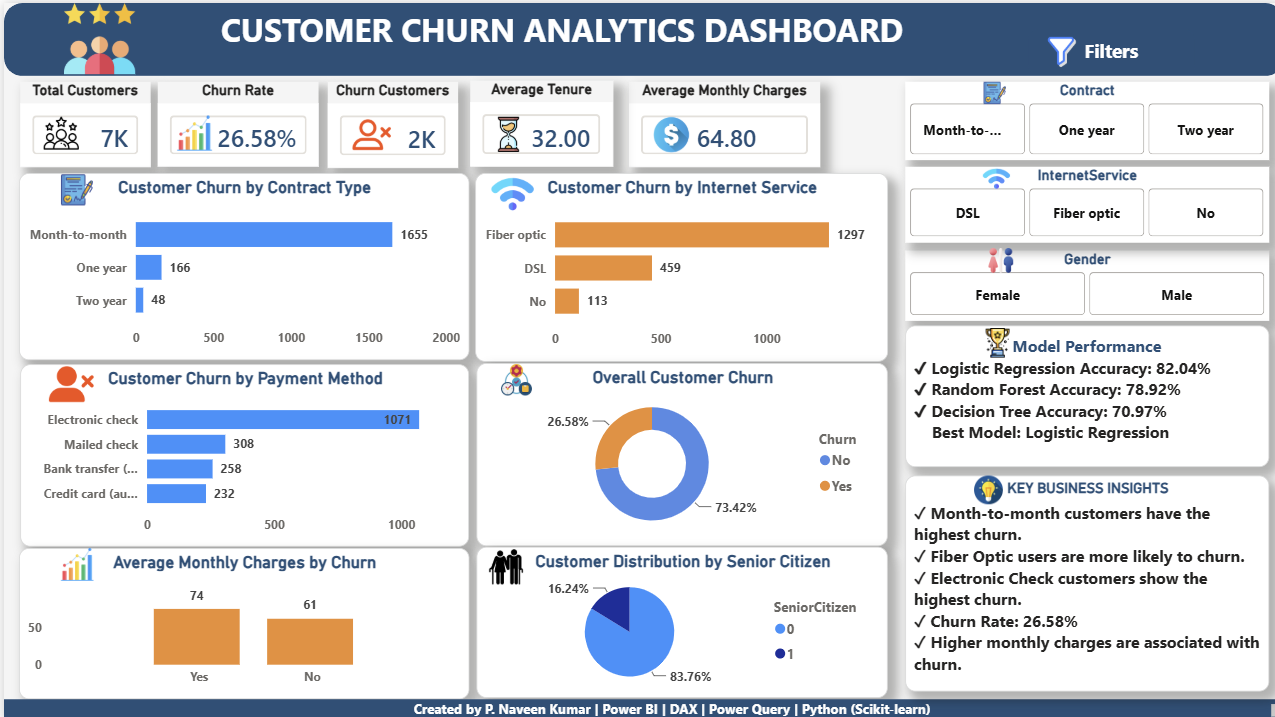

This screenshot's page, from the dashboard's own definition file:
{"tool":"powerbi","page":{"name":"Page 1","canvas":[1280,720],"ordinal":0},"visuals":[{"type":"shape","box":[0,0,1280,73.2],"z":0},{"type":"textbox","box":[0,0,1280,73.2],"z":1000},{"type":"cardVisual","title":"Average Monthly Charges","fields":{"Data":["DAX MEASURES.Average Monthly Charges"]},"box":[624.4,78.8,191,85.6],"z":2000},{"type":"cardVisual","title":"Total Customers","fields":{"Data":["DAX MEASURES.Total Customers"]},"box":[16.2,78.8,130,85.6],"z":3000},{"type":"cardVisual","title":"Churn Rate","fields":{"Data":["DAX MEASURES.Churn Rate"]},"box":[154,79,161,85],"z":4000},{"type":"cardVisual","title":"Churn Customers","fields":{"Data":["DAX MEASURES.Churn Customers"]},"box":[323.1,78.1,130,86.2],"z":5000},{"type":"cardVisual","title":"Average Tenure","fields":{"Data":["DAX MEASURES.Average Tenure"]},"box":[465.7,77.9,142.9,86.4],"z":6000},{"type":"barChart","title":"Customer Churn by Contract Type","fields":{"Category":["Customer Churn.Contract"],"Y":["DAX MEASURES.Churn Customers"]},"box":[15.5,170,450,187.3],"z":7000},{"type":"barChart","title":"Customer Churn by Internet Service","fields":{"Category":["Customer Churn.InternetService"],"Y":["DAX MEASURES.Churn Customers"]},"box":[471.4,170,412.9,188.6],"z":8000},{"type":"clusteredBarChart","title":"Customer Churn by Payment Method","fields":{"Y":["DAX MEASURES.Churn Customers"],"Category":["Customer Churn.PaymentMethod"]},"box":[16.4,360.9,449.1,182.7],"z":9000},{"type":"donutChart","title":"Overall Customer Churn","fields":{"Y":["CountNonNull(Customer Churn.customerID)"],"Category":["Customer Churn.Churn"]},"box":[472.9,360,411.4,182.9],"z":10000},{"type":"advancedSlicerVisual","title":"Gender","fields":{"Values":["Customer Churn.gender"]},"box":[901.4,247.1,364.3,70],"z":11000},{"type":"advancedSlicerVisual","fields":{"Values":["Customer Churn.Contract"]},"box":[901.4,78.6,364.3,78.6],"z":12000},{"type":"advancedSlicerVisual","fields":{"Values":["Customer Churn.InternetService"]},"box":[901.4,164.3,364.3,75.7],"z":13000},{"type":"columnChart","title":"Average Monthly Charges by Churn","fields":{"Category":["Customer Churn.Churn"],"Y":["Avg(Customer Churn.MonthlyCharges)"]},"box":[15.5,544.5,450,150.9],"z":14000},{"type":"pieChart","title":"Customer Distribution by Senior Citizen","fields":{"Y":["CountNonNull(Customer Churn.Churn)"],"Category":["Customer Churn.SeniorCitizen"]},"box":[472.9,544.3,411.4,151.4],"z":15000},{"type":"textbox","box":[0,696.4,1280,23.6],"z":16000},{"type":"textbox","box":[901.8,322.7,363.6,141.8],"z":17000},{"type":"textbox","title":"KEY BUSINESS INSIGHTS","box":[901.8,472.7,363.6,216.4],"z":18000},{"type":"textbox","box":[1023.6,26.4,167.3,45.5],"z":19000},{"type":"image","box":[21.4,112.9,71.4,35],"z":19001},{"type":"image","box":[154,113,74,35],"z":19003},{"type":"image","box":[333,113,70,38],"z":19004},{"type":"image","box":[473,114,64,35],"z":19005},{"type":"image","box":[624,114,87,36],"z":19006},{"type":"image","box":[1027.8,28.9,60,40],"z":19007},{"type":"image","box":[958.9,78.9,64.4,22.2],"z":19008},{"type":"image","box":[941.1,162.2,102.2,26.7],"z":19009},{"type":"image","box":[950,244.4,93.3,24.4],"z":19010},{"type":"image","box":[930.6,324.4,127.2,29.4],"z":19011},{"type":"image","box":[901.8,472.7,166.4,29.1],"z":19012},{"type":"image","box":[465.6,170,87.8,42.2],"z":19013},{"type":"image","box":[14.3,171.4,118.6,31.4],"z":19014},{"type":"image","box":[2.5,358.8,130,45],"z":19015},{"type":"image","box":[0,545,146.2,32.5],"z":19016},{"type":"image","box":[432.5,546.2,138.8,35],"z":19017},{"type":"image","box":[472.9,358.6,80,35.7],"z":19018},{"type":"image","box":[0,0,191.4,71.4],"z":19019}]}

Visuals, with their boxes in screenshot pixels (x1, y1, x2, y2), scaled from the page's 1280x720 canvas onto the 1275x717 screenshot:
shape: bbox=(0, 0, 1274, 73)
textbox: bbox=(0, 0, 1274, 73)
"Average Monthly Charges" cardVisual: bbox=(622, 78, 812, 164)
"Total Customers" cardVisual: bbox=(16, 78, 146, 164)
"Churn Rate" cardVisual: bbox=(153, 79, 314, 163)
"Churn Customers" cardVisual: bbox=(322, 78, 451, 164)
"Average Tenure" cardVisual: bbox=(464, 78, 606, 164)
"Customer Churn by Contract Type" barChart: bbox=(15, 169, 464, 356)
"Customer Churn by Internet Service" barChart: bbox=(470, 169, 881, 357)
"Customer Churn by Payment Method" clusteredBarChart: bbox=(16, 359, 464, 541)
"Overall Customer Churn" donutChart: bbox=(471, 358, 881, 541)
"Gender" advancedSlicerVisual: bbox=(898, 246, 1261, 316)
advancedSlicerVisual - Customer Churn.Contract: bbox=(898, 78, 1261, 157)
advancedSlicerVisual - Customer Churn.InternetService: bbox=(898, 164, 1261, 239)
"Average Monthly Charges by Churn" columnChart: bbox=(15, 542, 464, 693)
"Customer Distribution by Senior Citizen" pieChart: bbox=(471, 542, 881, 693)
textbox: bbox=(0, 693, 1274, 716)
textbox: bbox=(898, 321, 1260, 463)
"KEY BUSINESS INSIGHTS" textbox: bbox=(898, 471, 1260, 686)
textbox: bbox=(1020, 26, 1186, 72)
image: bbox=(21, 112, 92, 147)
image: bbox=(153, 113, 227, 147)
image: bbox=(332, 113, 401, 150)
image: bbox=(471, 114, 535, 148)
image: bbox=(622, 114, 708, 149)
image: bbox=(1024, 29, 1084, 69)
image: bbox=(955, 79, 1019, 101)
image: bbox=(937, 162, 1039, 188)
image: bbox=(946, 243, 1039, 268)
image: bbox=(927, 323, 1054, 352)
image: bbox=(898, 471, 1064, 500)
image: bbox=(464, 169, 551, 211)
image: bbox=(14, 171, 132, 202)
image: bbox=(2, 357, 132, 402)
image: bbox=(0, 543, 146, 575)
image: bbox=(431, 544, 569, 579)
image: bbox=(471, 357, 551, 393)
image: bbox=(0, 0, 191, 71)
